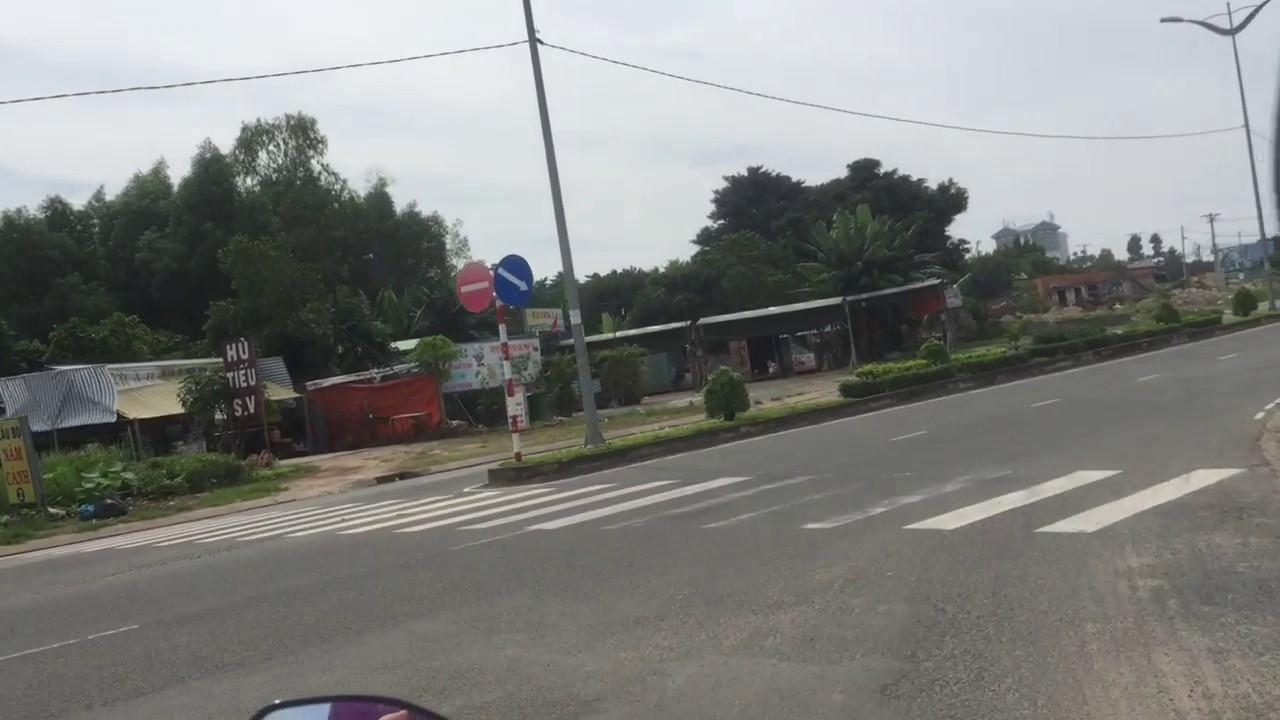DP.135: (456, 262, 492, 312)
P.130: (494, 252, 532, 308)
